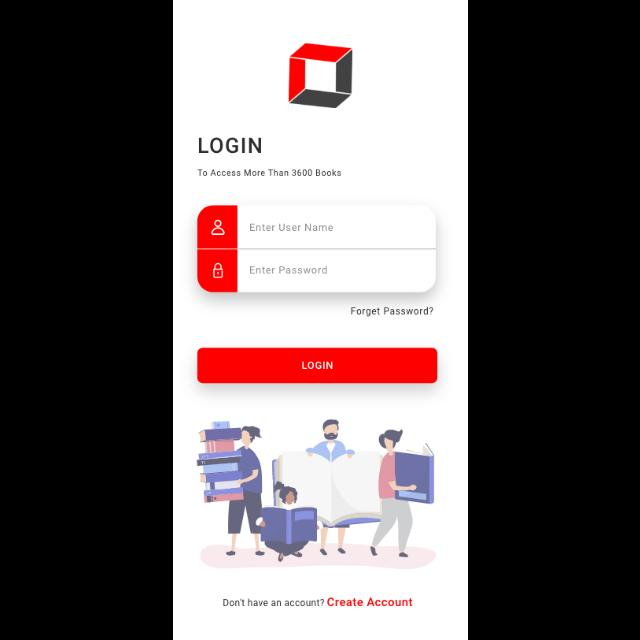icon: (211, 220, 225, 236), (212, 264, 222, 278)
image: (196, 418, 436, 570), (288, 44, 352, 108)
input: (197, 205, 436, 249), (197, 249, 436, 293)
text: (198, 138, 262, 154), (197, 170, 341, 177), (326, 597, 412, 607), (351, 307, 433, 317), (222, 598, 324, 606), (250, 223, 332, 231), (250, 266, 328, 274)
textbutton: (197, 348, 437, 384)
